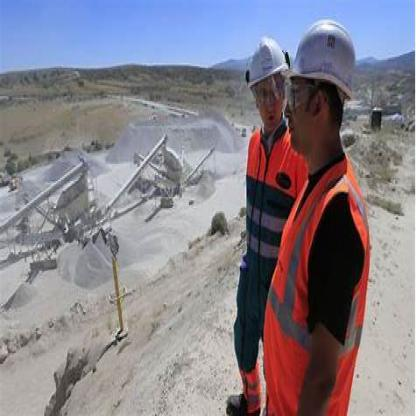person: (263, 22, 382, 414)
